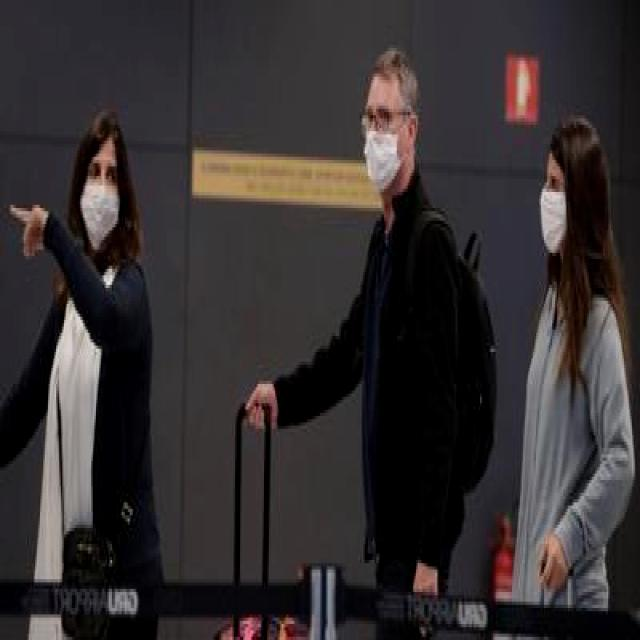face_mask: (360, 93, 408, 189), (80, 148, 125, 246), (539, 163, 568, 256)
glasses: (358, 104, 392, 136)
hand_noglove: (8, 195, 51, 266), (537, 525, 572, 595), (246, 378, 279, 435)
head_nohelmet: (538, 102, 592, 170), (367, 38, 418, 102), (90, 92, 124, 154)
person: (298, 57, 479, 640), (0, 102, 168, 640), (498, 112, 624, 640)
